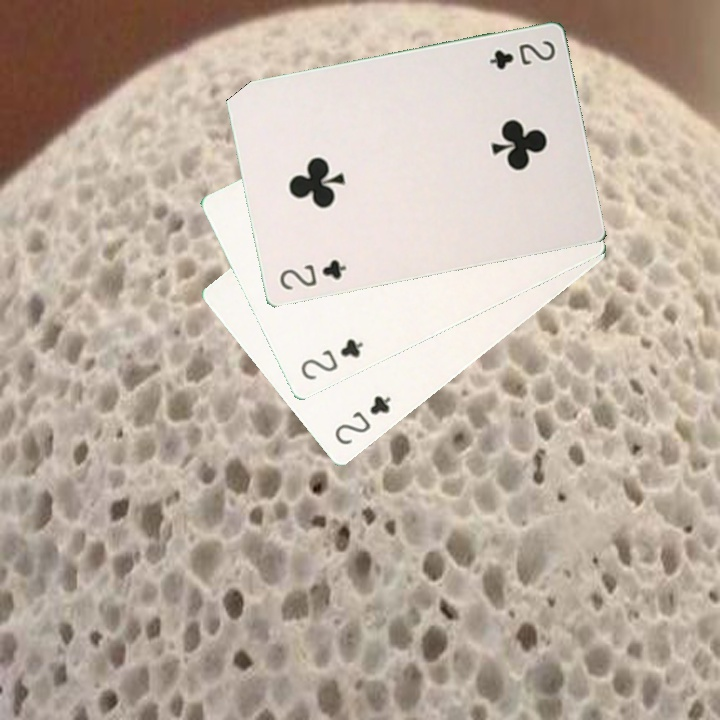2c: (330, 391, 394, 448), (296, 334, 366, 383), (275, 255, 349, 293), (485, 36, 558, 72)
